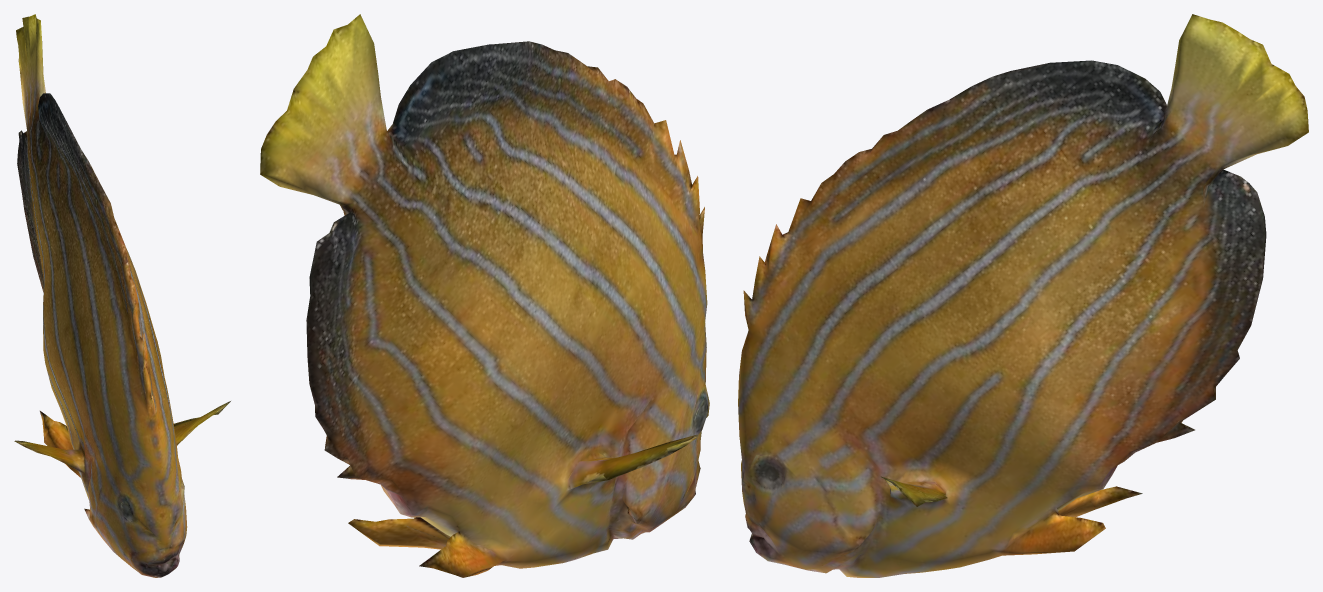
Rendered from angelfish.glb.
The picture shows the model from 3 angles, left to right: view 1: azimuth 30°, elevation 25°; view 2: azimuth 150°, elevation 25°; view 3: azimuth 270°, elevation 25°; orthographic projection. The views are drawn at different scales.
Parts seen in each view (by area): view 1: angelfish_near; view 2: angelfish_near; view 3: angelfish_near.
Part boxes in pixels (box(x1,y1,x2,y2)): angelfish_near: box(14, 14, 230, 577); angelfish_near: box(260, 14, 709, 577); angelfish_near: box(738, 14, 1308, 577).
Bounding box in the file's own units: 0.064 × 0.1329 × 0.1185.
Materials: 1 (1 with a texture image).
